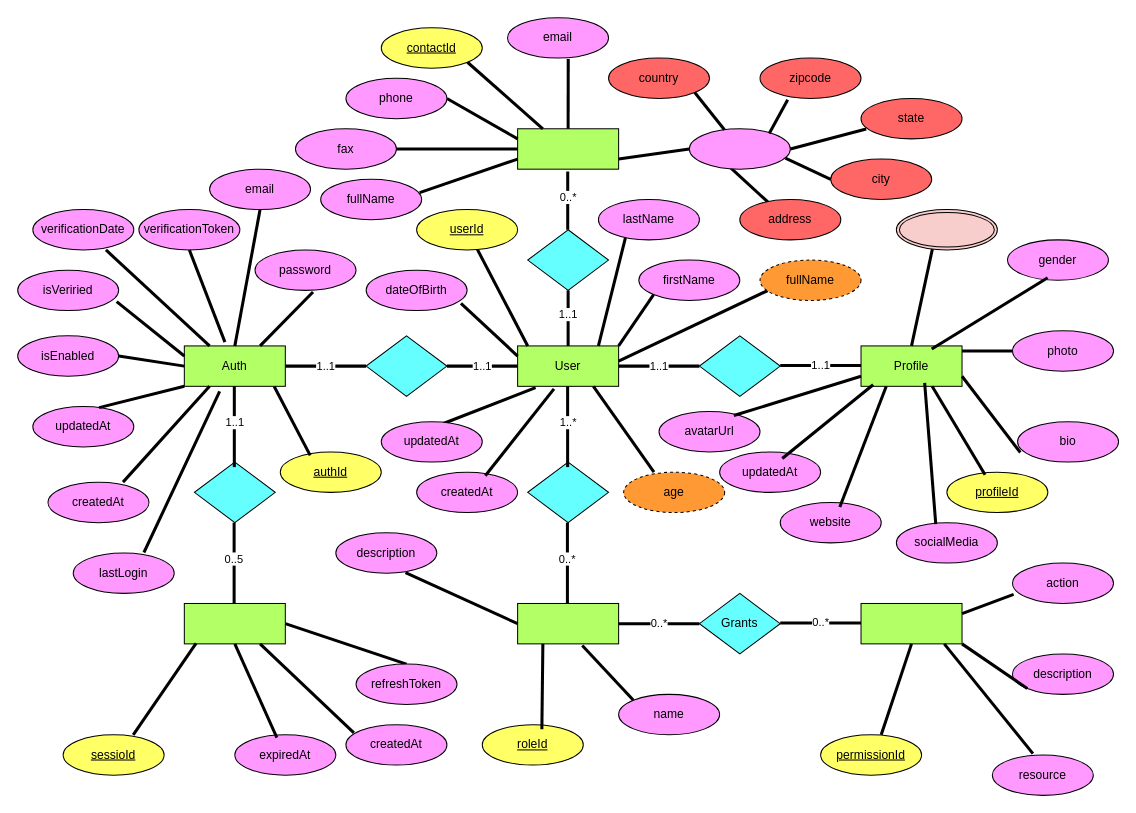
This 1136x813 diagram has some shape labels left out. The centre of each missing label's shape, as x and y in pixels:
Assigned: (x=568, y=492)
Belongs To: (x=406, y=365)
Contact: (x=568, y=148)
Generates: (x=234, y=492)
Includes: (x=568, y=259)
Linked: (x=739, y=365)
Location: (x=739, y=148)
Permission: (x=911, y=623)
preferences: (x=946, y=229)
Role: (x=568, y=623)
Session: (x=234, y=623)
